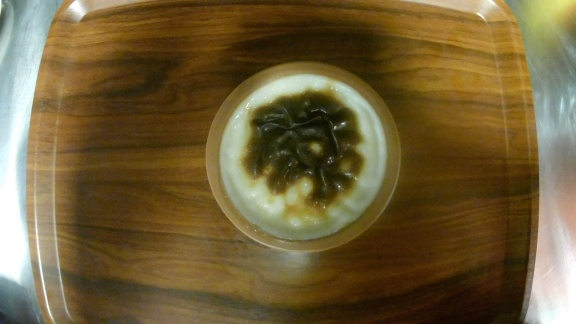sutlac: (205, 61, 402, 251)
